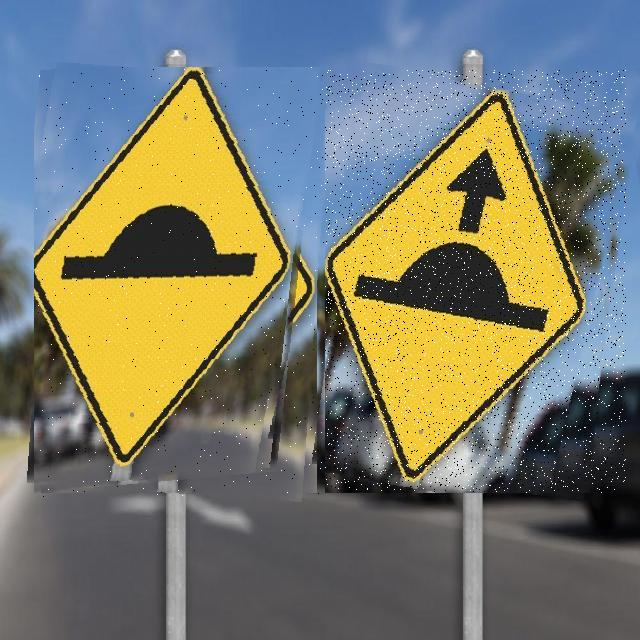hump: (325, 70, 626, 493), (34, 67, 324, 497)
